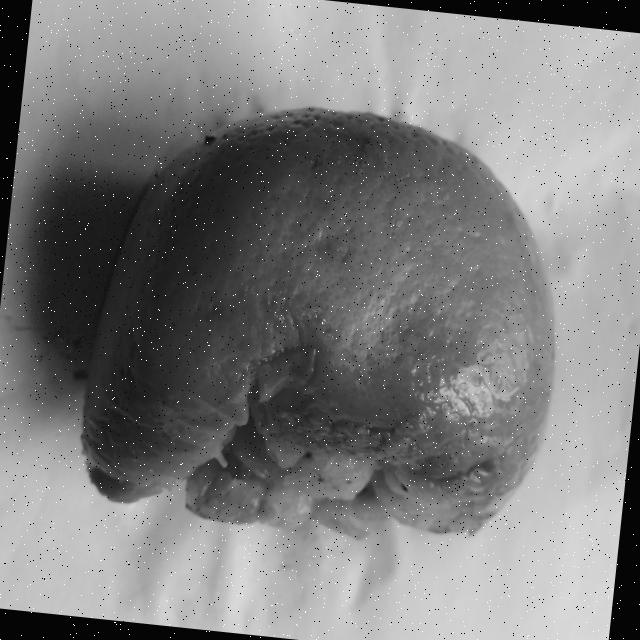Rotten: (70, 81, 584, 556)
